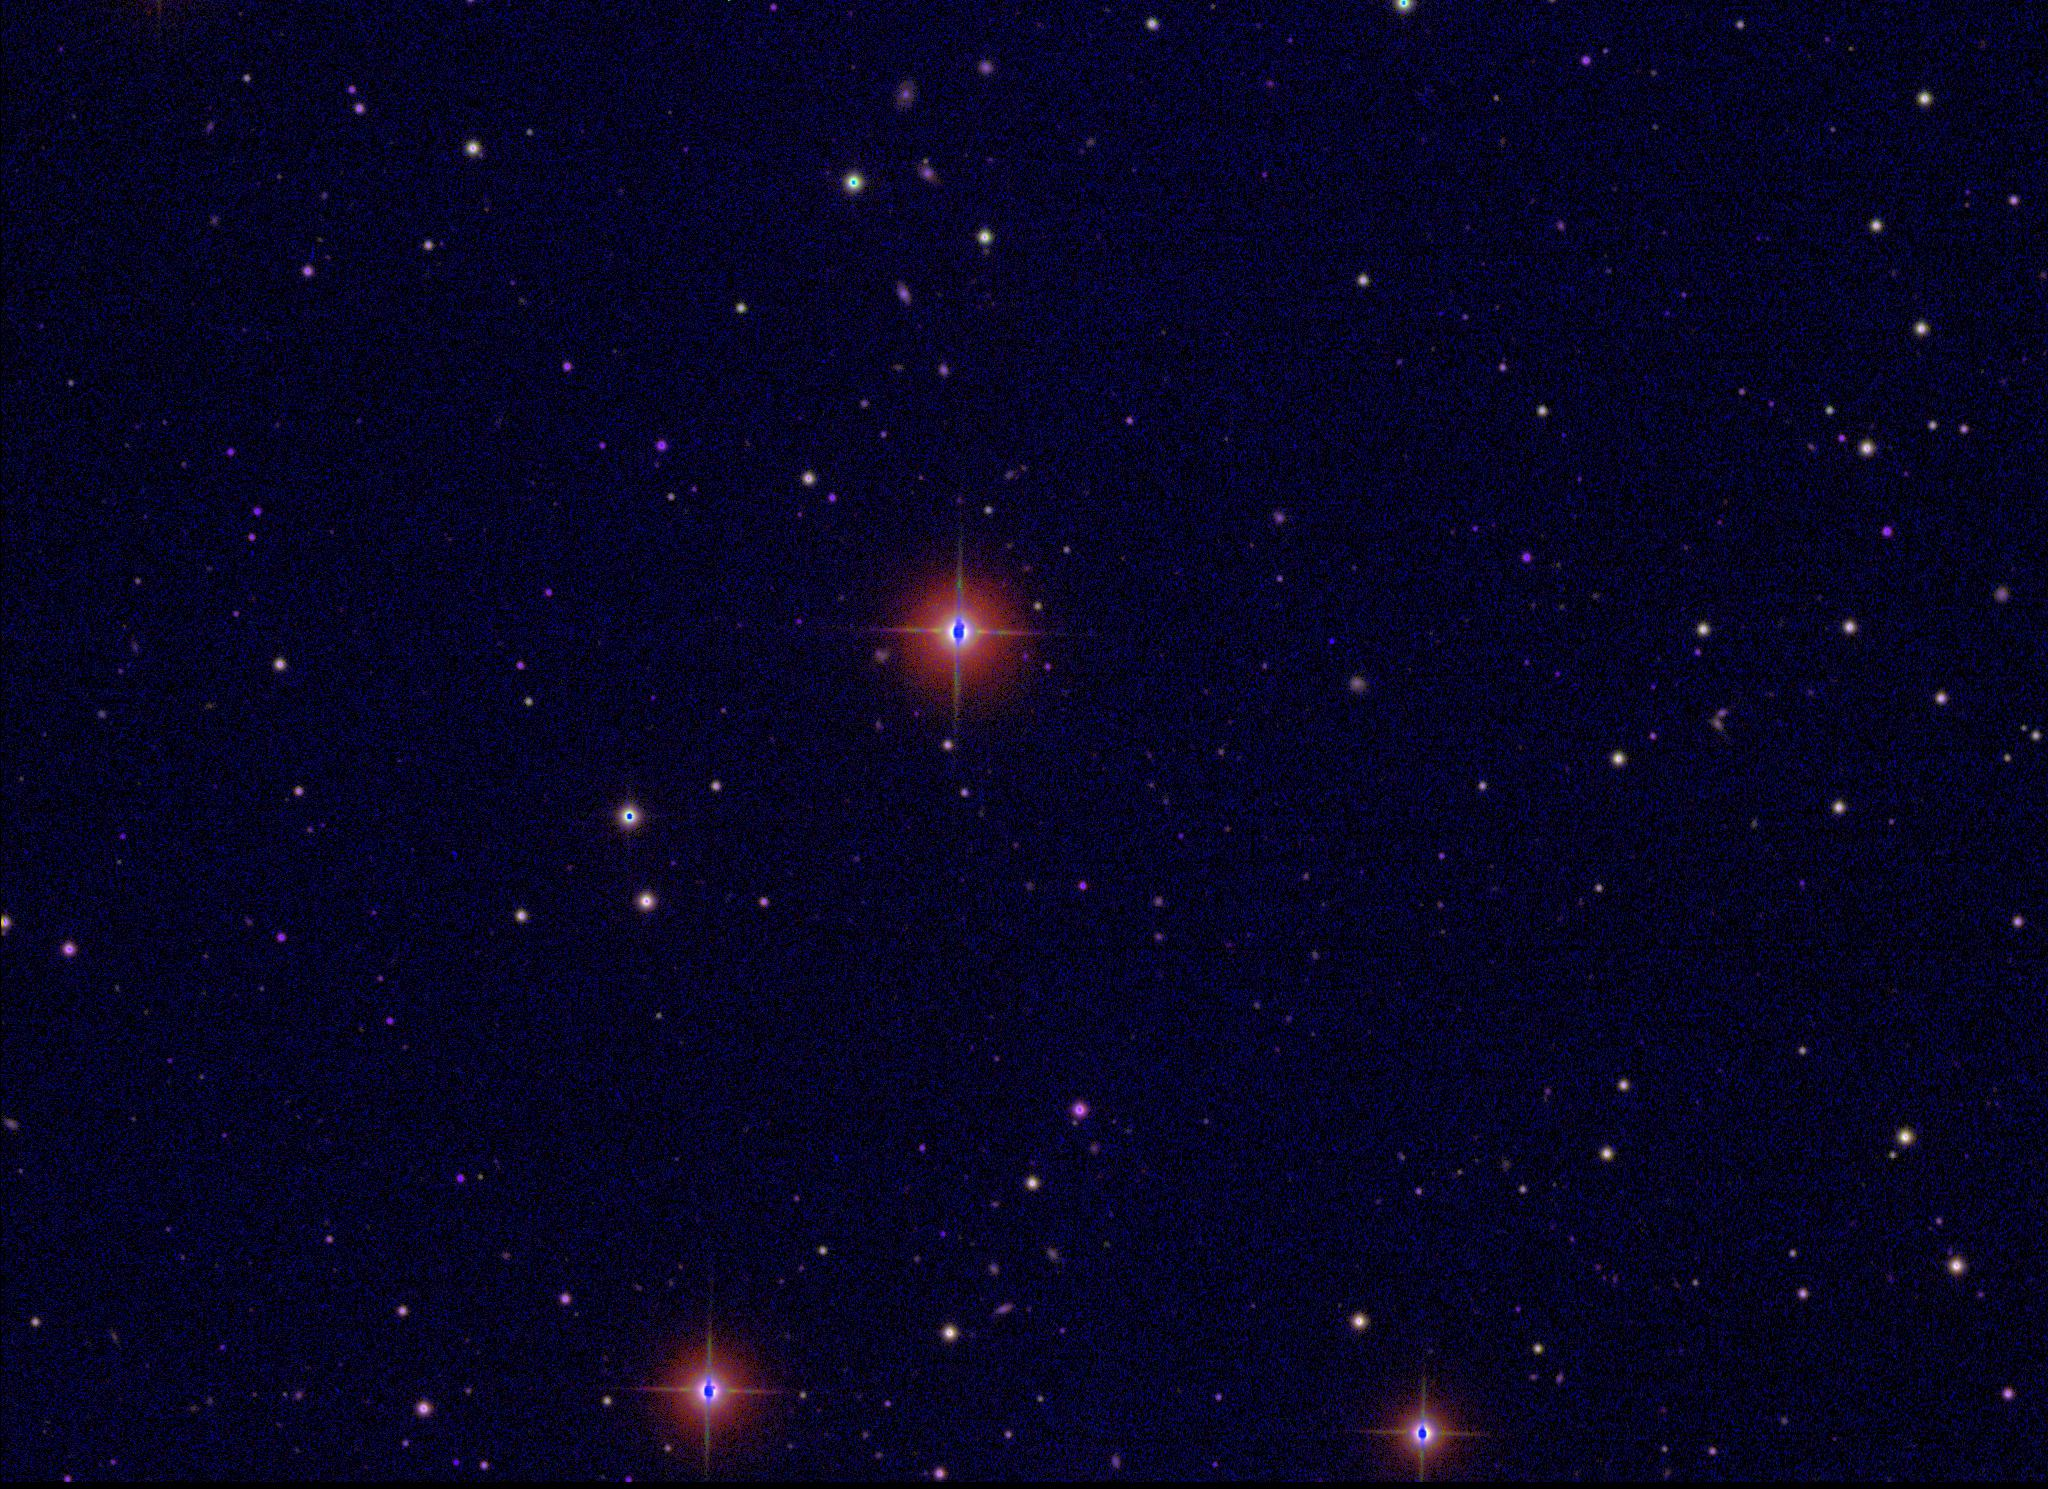L: (1320, 635, 1334, 649)
